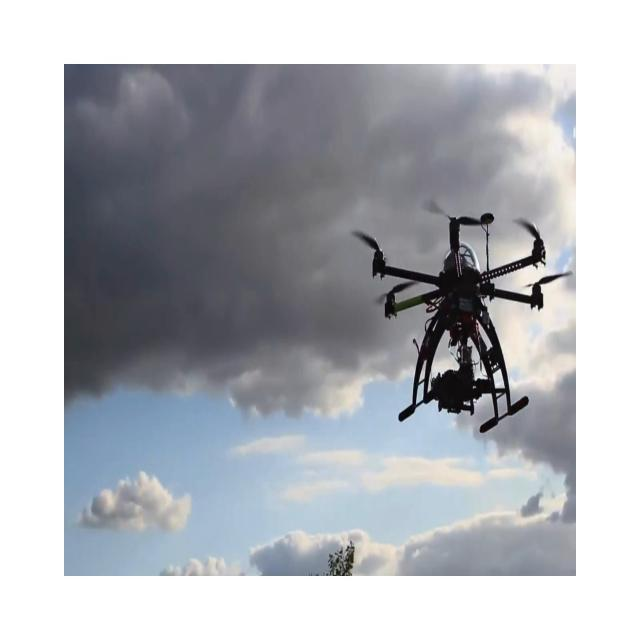drone: (350, 198, 572, 434)
